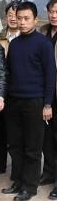boots: (0, 182, 20, 194), (0, 163, 10, 173)
